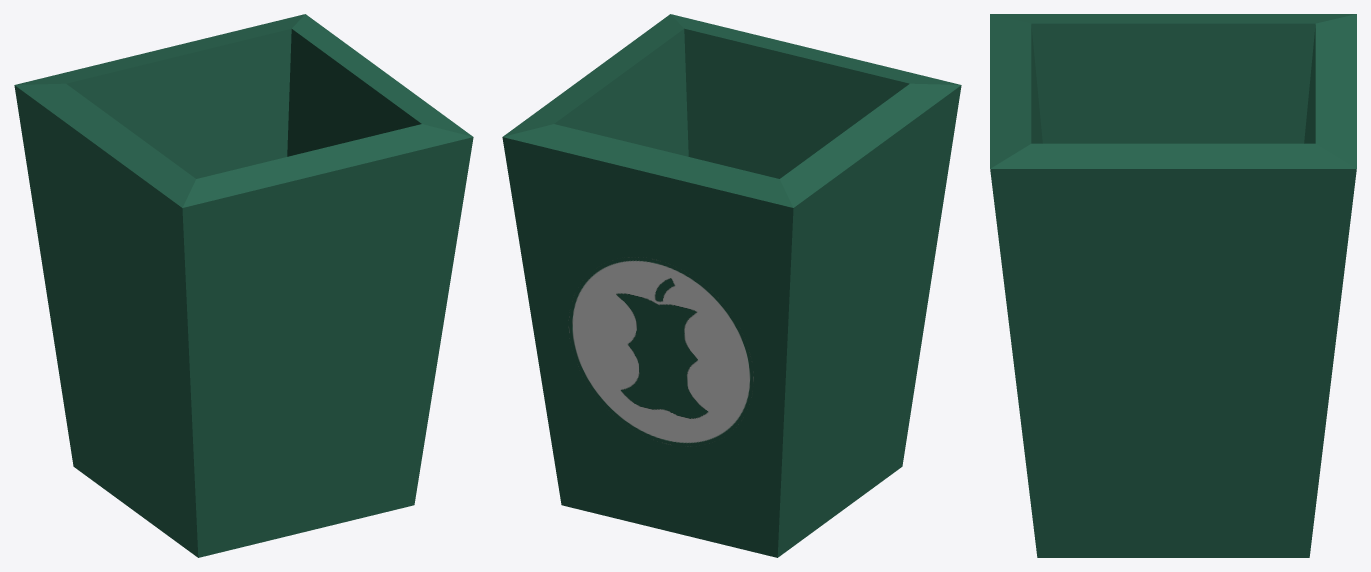
Rendered from Bin.fbx.
3 views of the same model, side by side, from view 1: azimuth 30°, elevation 25°; view 2: azimuth 150°, elevation 25°; view 3: azimuth 270°, elevation 25° (orthographic). The views are drawn at different scales.
Visible parts, largest first — view 1: Trash; view 2: Trash, Logo; view 3: Trash.
Boxes of the visible parts, x1,y1,x2,y2 form: Trash: (14,14,473,557); Trash: (502,14,961,557); Logo: (568,257,753,446); Trash: (990,14,1356,557).
Bounding box in the file's own units: 156 × 195 × 156.
2 materials, 1 textured.
